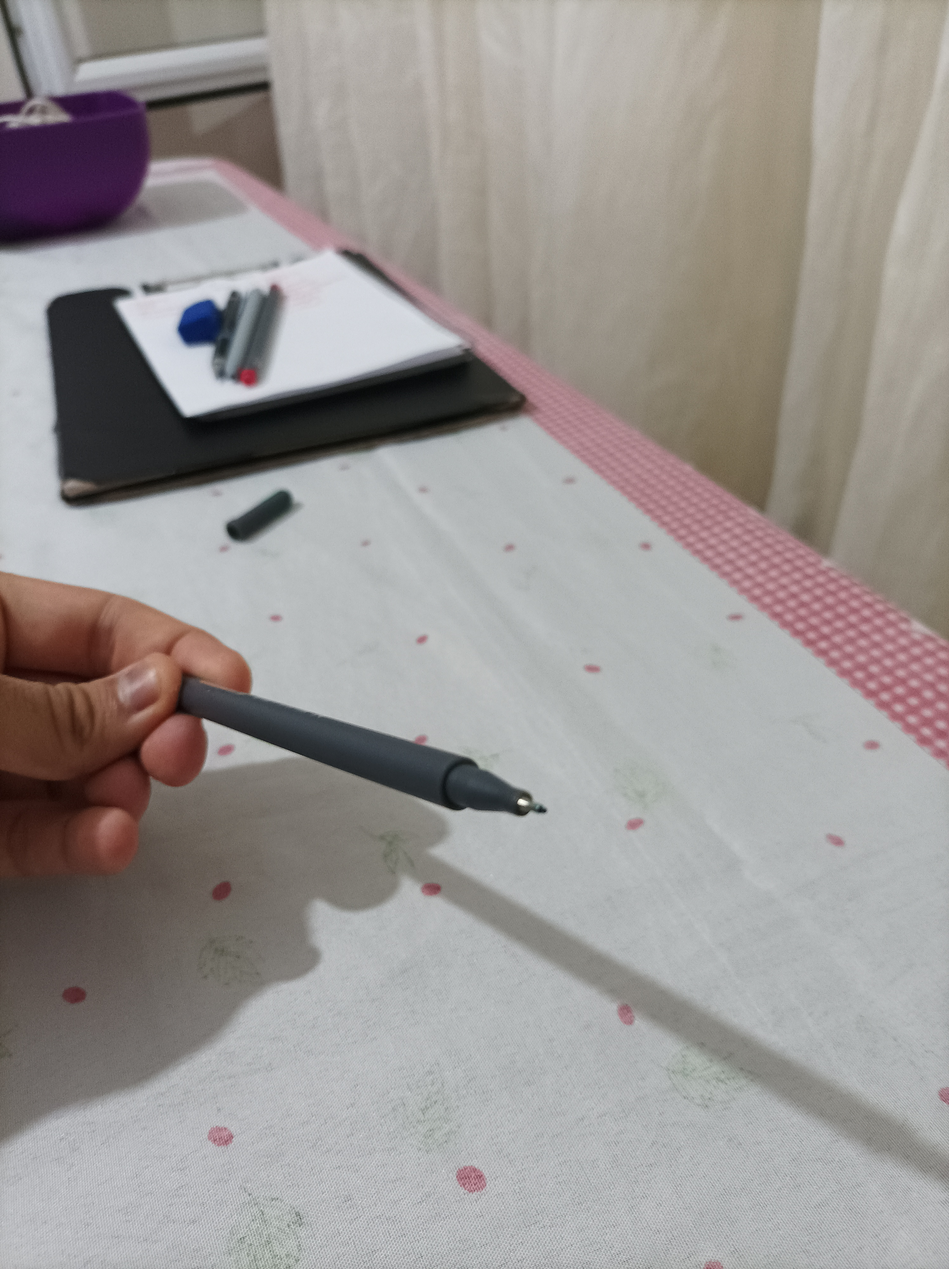plastic: (169, 644, 549, 847)
